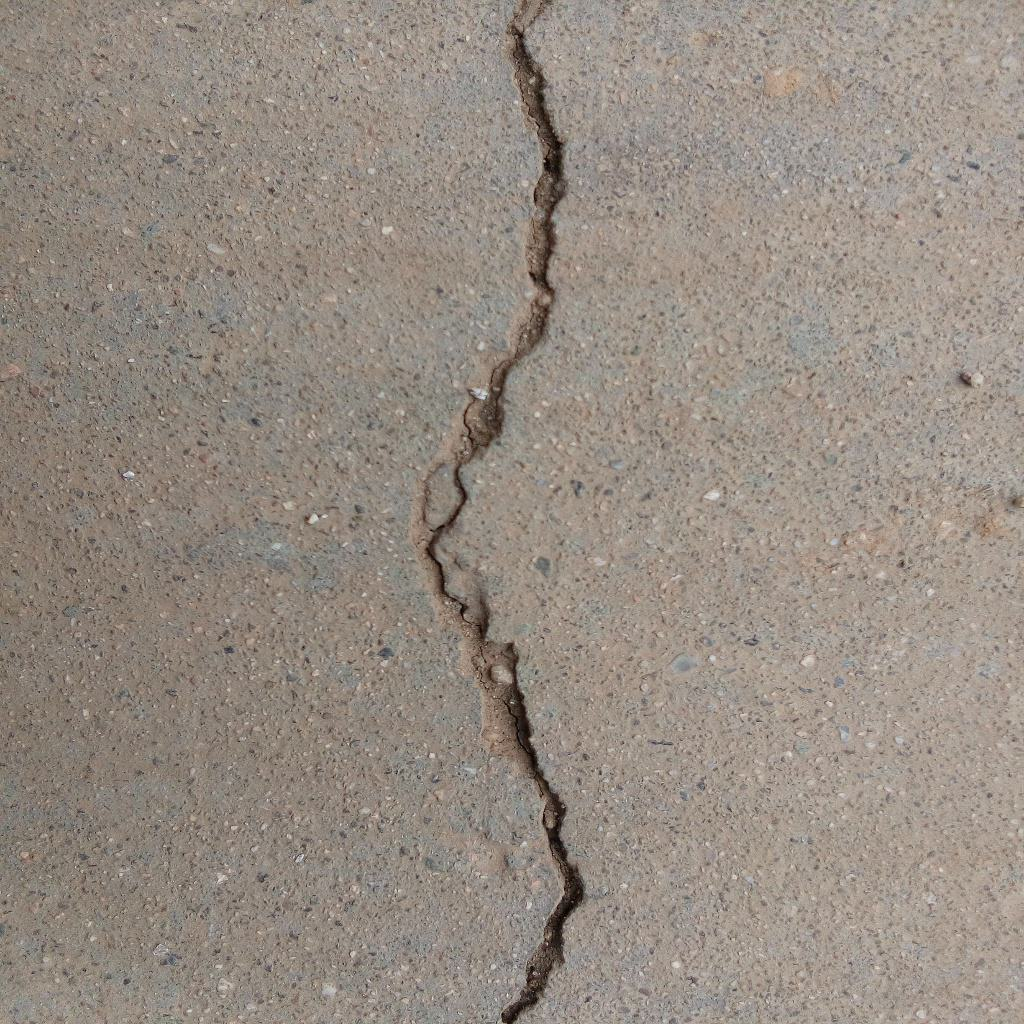Crack: (412, 1, 588, 1024)
